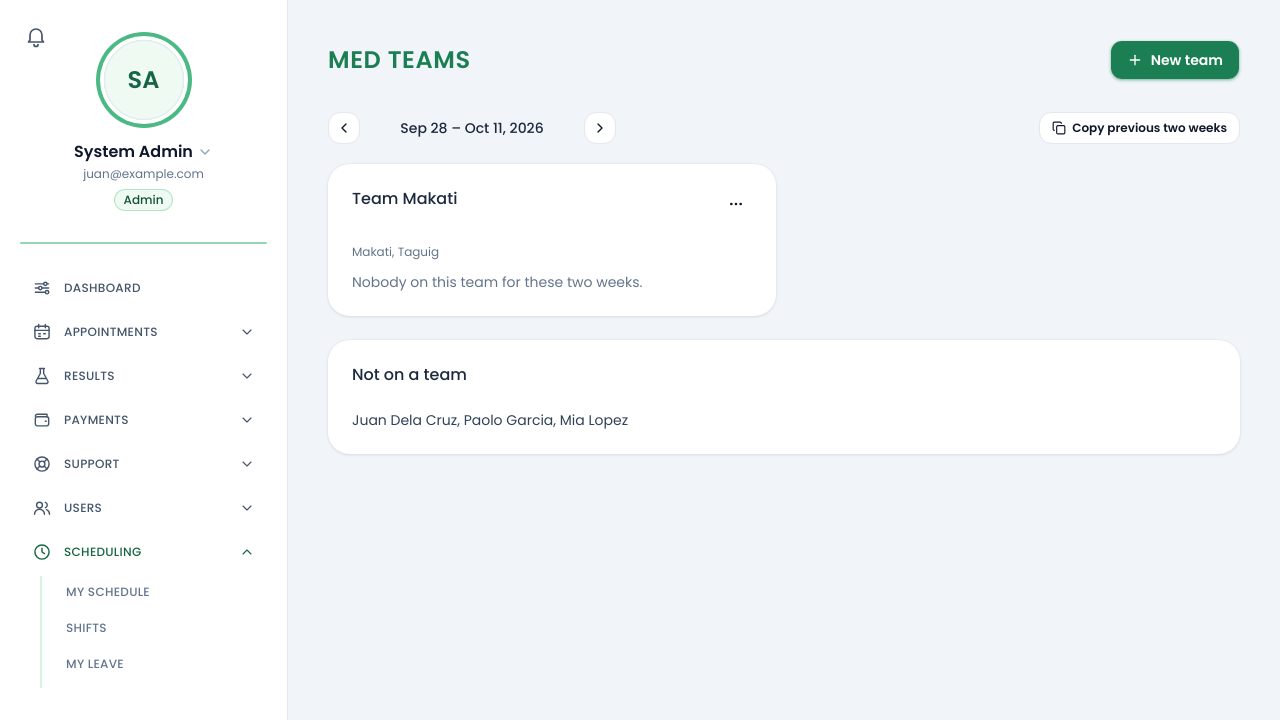
Test case: TeamsPage › offers to copy the previous two weeks into an empty period
Step 1. Click the button "Copy previous two weeks" → [1140, 128], box [1039, 112, 1240, 144]
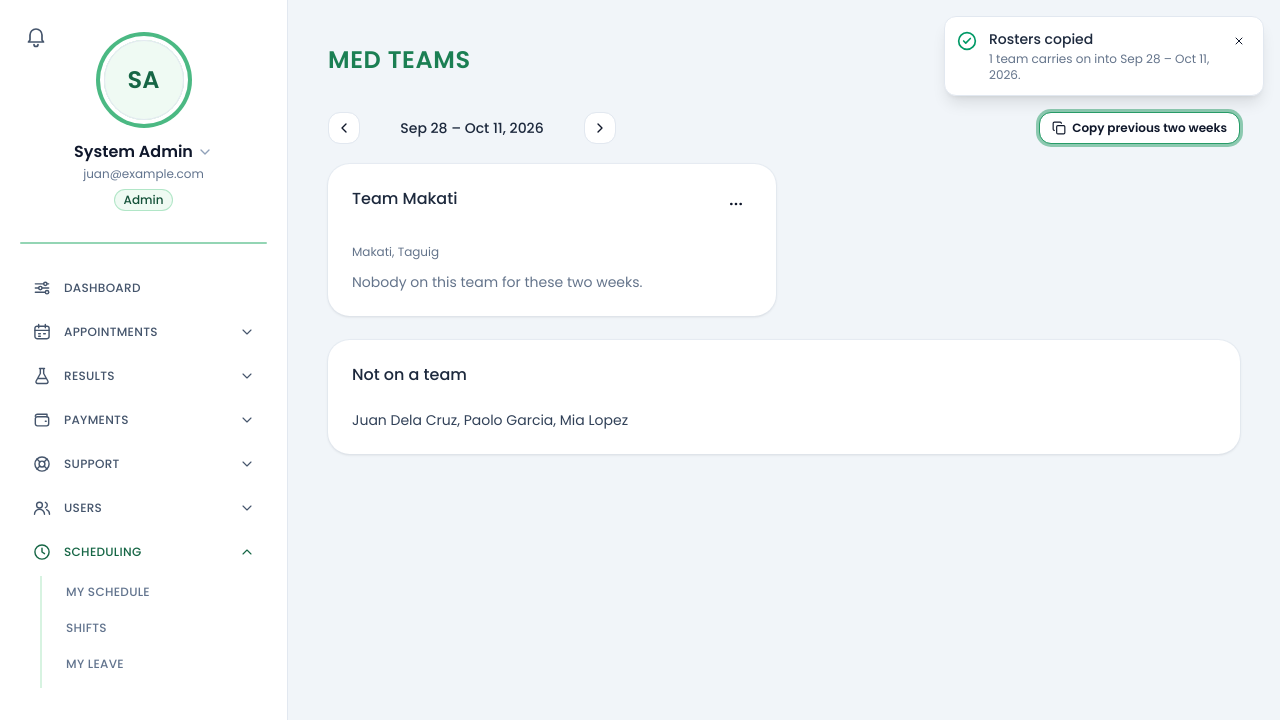
Expected: the text "Rosters copied" is shown, [989, 29, 1093, 49]
